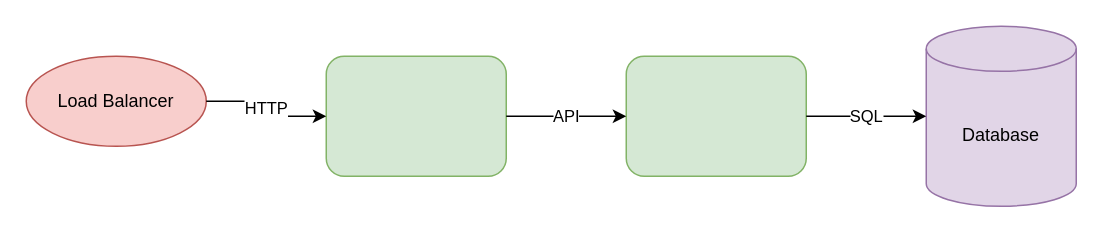
This 1103x233 diagram has some shape labels left out. The centre of each missing label's shape, as x and y in pixels:
"MyApp" belongs at point 715,115.
"Web Server" belongs at point 415,115.
